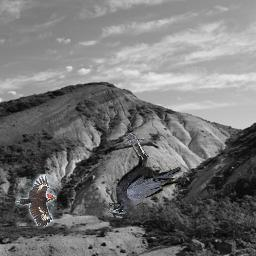Crow: (109, 134, 182, 215)
Woodpecker: (15, 174, 57, 226)
